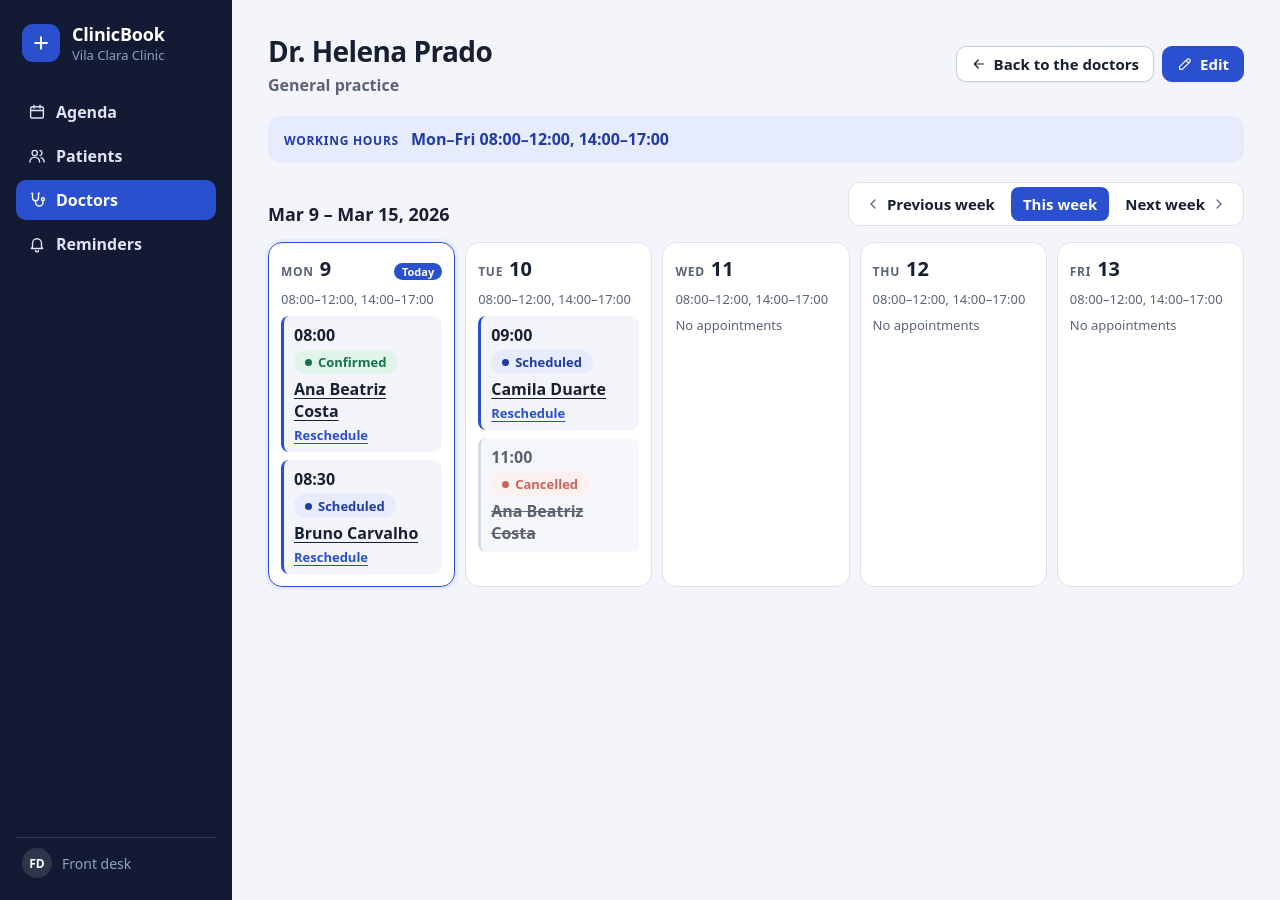
Test: the doctors › point out an appointment outside the hours of the doctor
Expected: the navigation bar named "Main" is shown, [16,92,216,264]
Step 1. Click the link "Edit" → click(1203, 64), box [1162,46,1244,82]
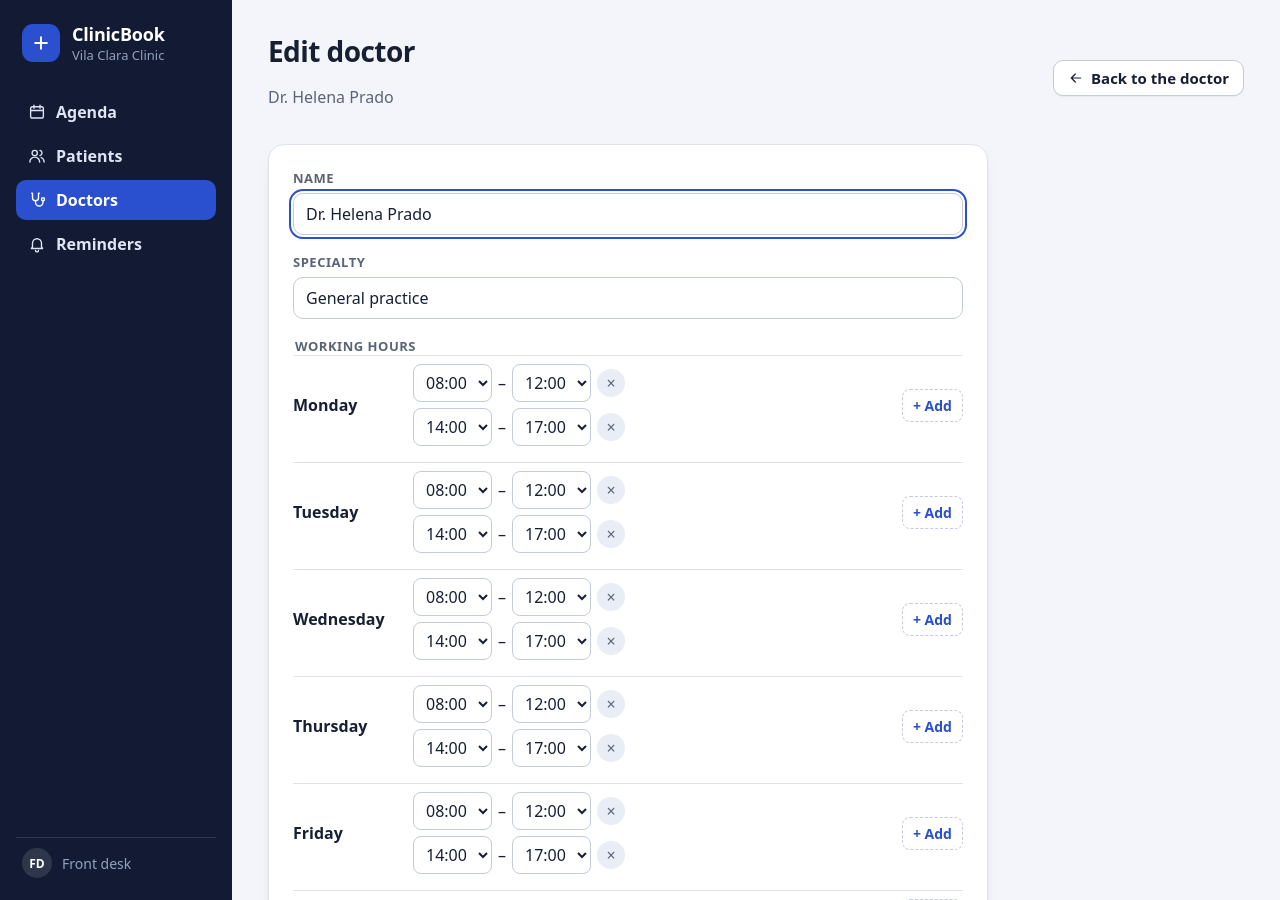
Step 2. Select "09:00" in the dropdown named "Monday, period 1, starts at" → (452, 383), box [413,364,492,402]
(page scrolled)
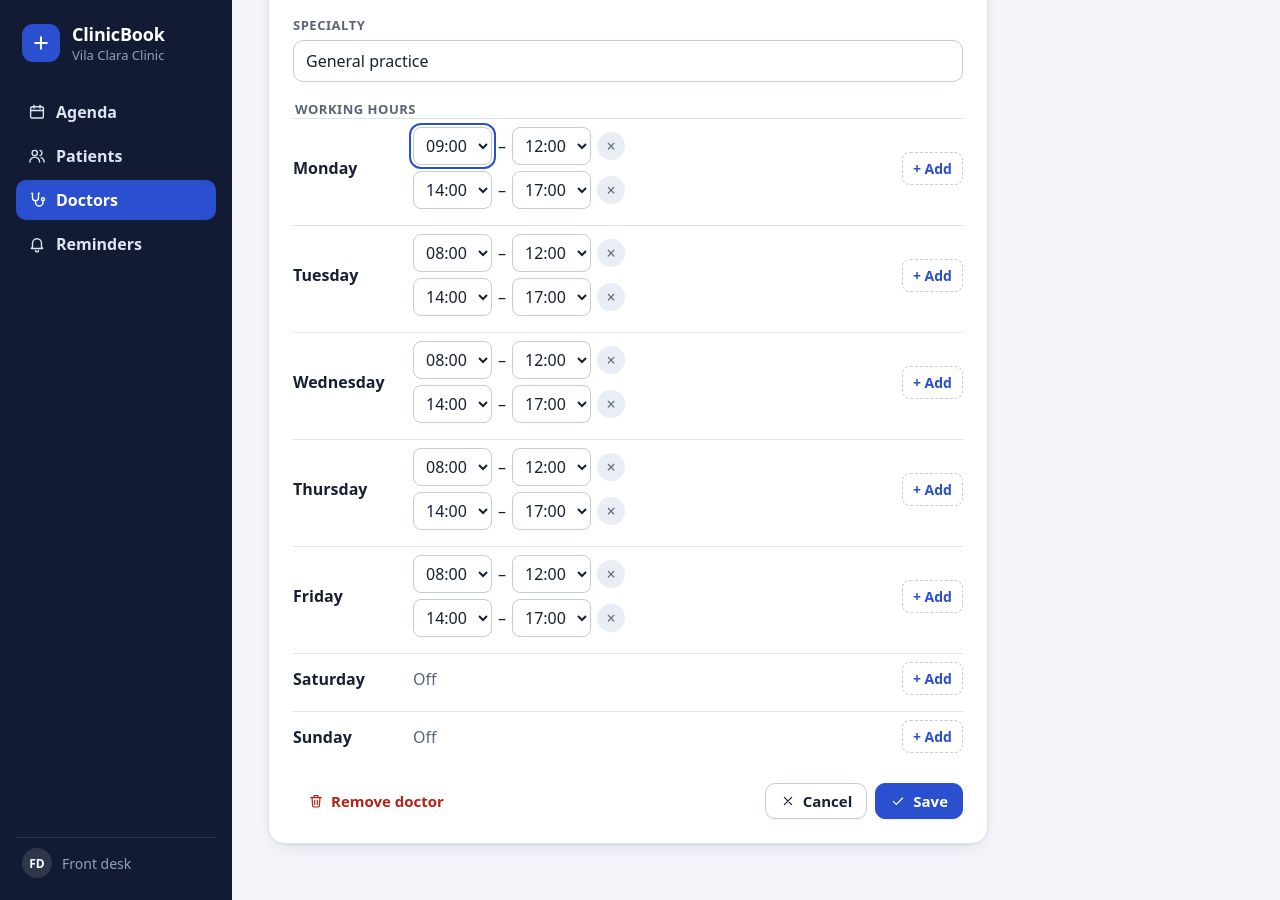
Step 3. Click the button "Save" → click(919, 801), box [875,783,963,819]
(page scrolled)
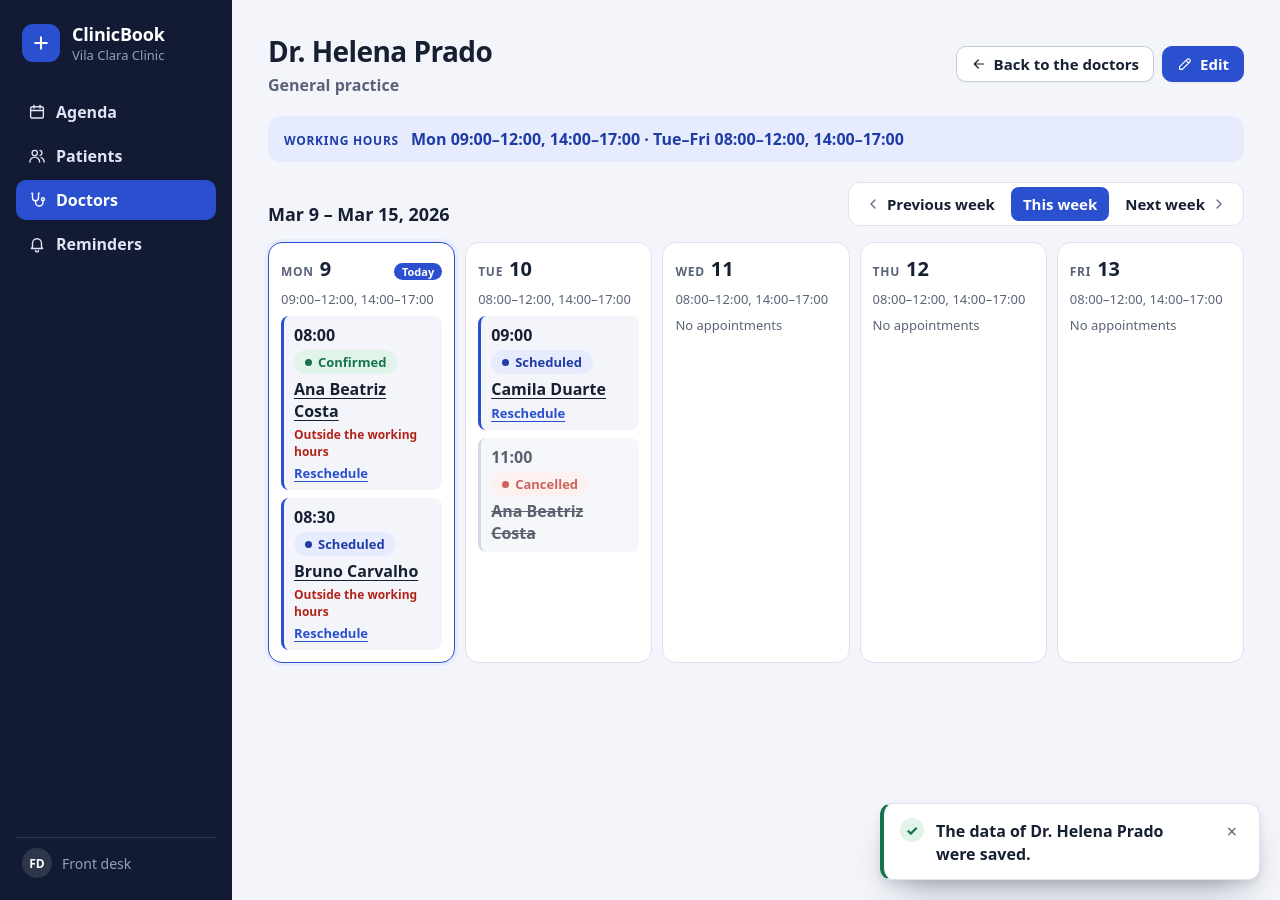
Now the text "Outside the working hours" below "Confirmed" is shown, box [294,426,417,460]
Now the text "Outside the working hours" below "08:30" is shown, box [294,586,417,620]
